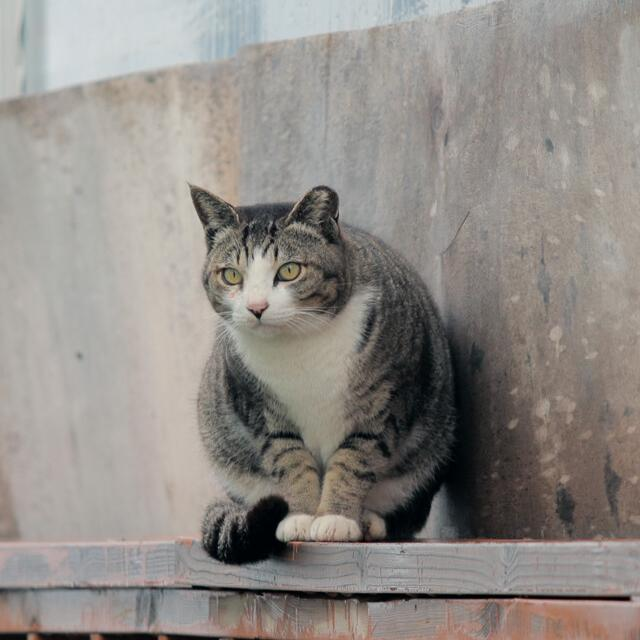animals: (184, 180, 461, 564)
